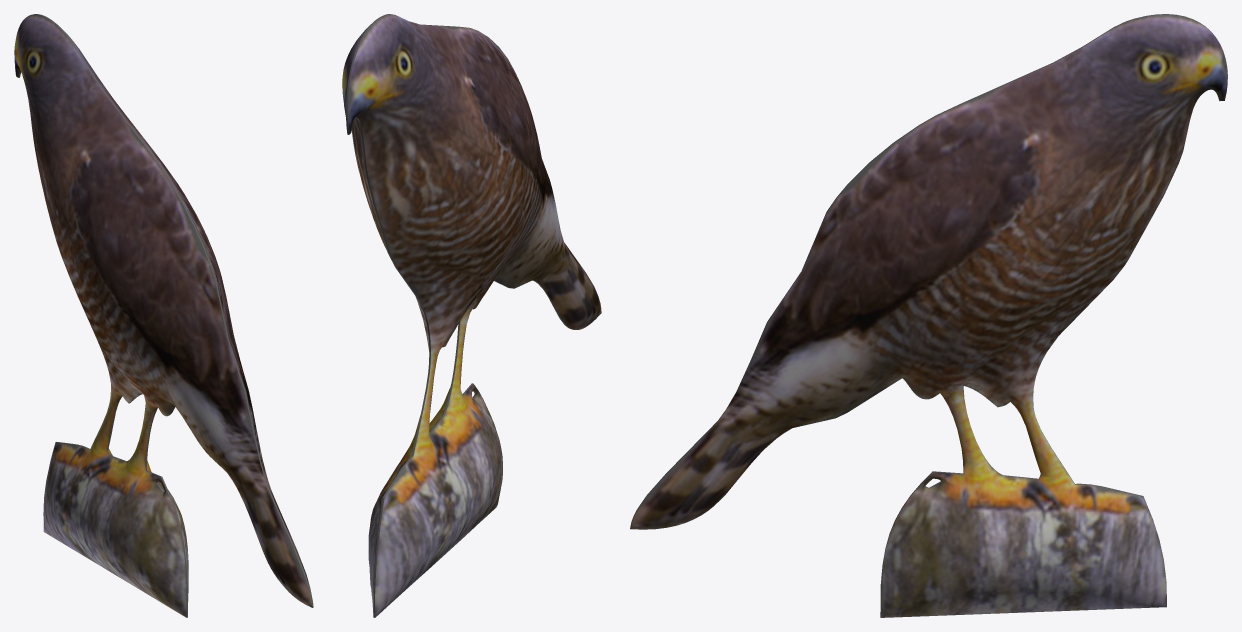
File: medium-removebg-preview.gltf
3 views of the same model, side by side, from view 1: azimuth 30°, elevation 25°; view 2: azimuth 150°, elevation 25°; view 3: azimuth 270°, elevation 25° (orthographic). The views are drawn at different scales.
Parts seen in each view (by area): view 1: node1; view 2: node1; view 3: node1.
Part boxes in pixels (bbox=[...]): node1: bbox=[14, 14, 313, 617]; node1: bbox=[342, 14, 601, 617]; node1: bbox=[630, 14, 1227, 617].
Size of the model in its own units: 0.2758 by 1.26 by 1.15.
Materials: 1 (1 with a texture image).
